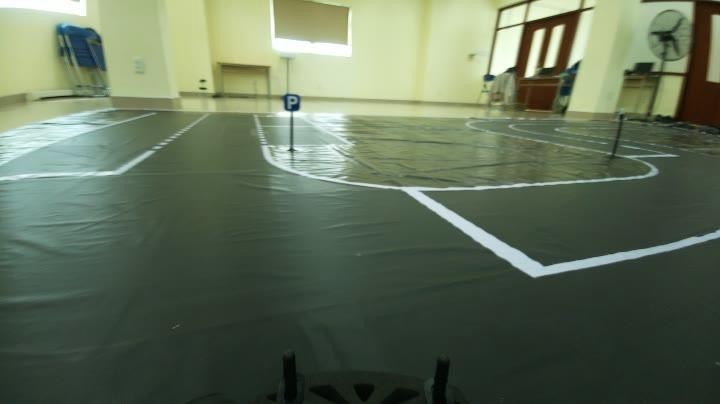parking: (278, 90, 305, 117)
